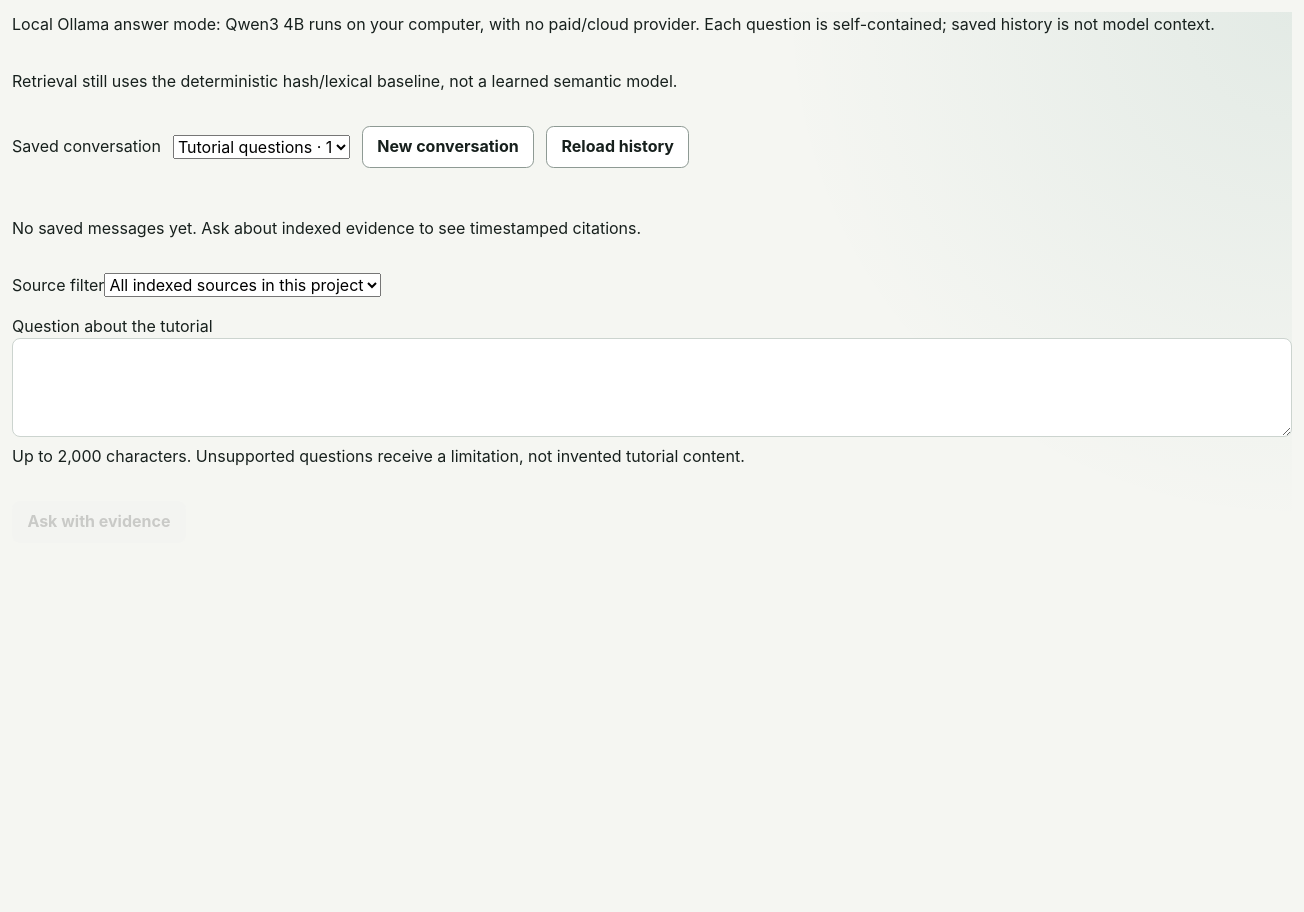
Scenario: project chat › offers actionable local-model recovery while retaining the same retry key
In the text box labelled "Question about the tutorial": (652, 388) [12,338,1292,437], type "What is health?"
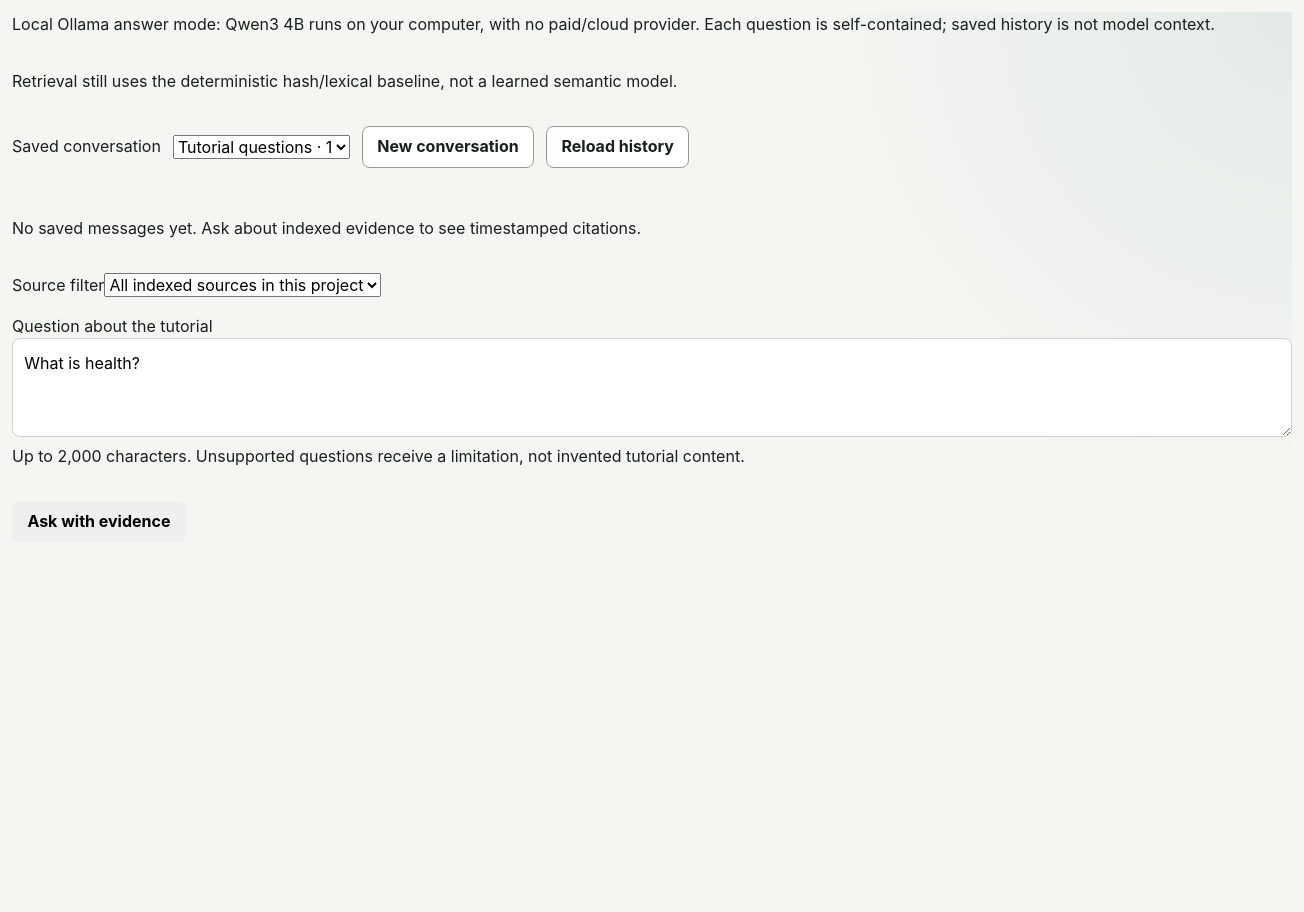
Click the button "Ask with evidence": (99, 522) [12,501,186,543]
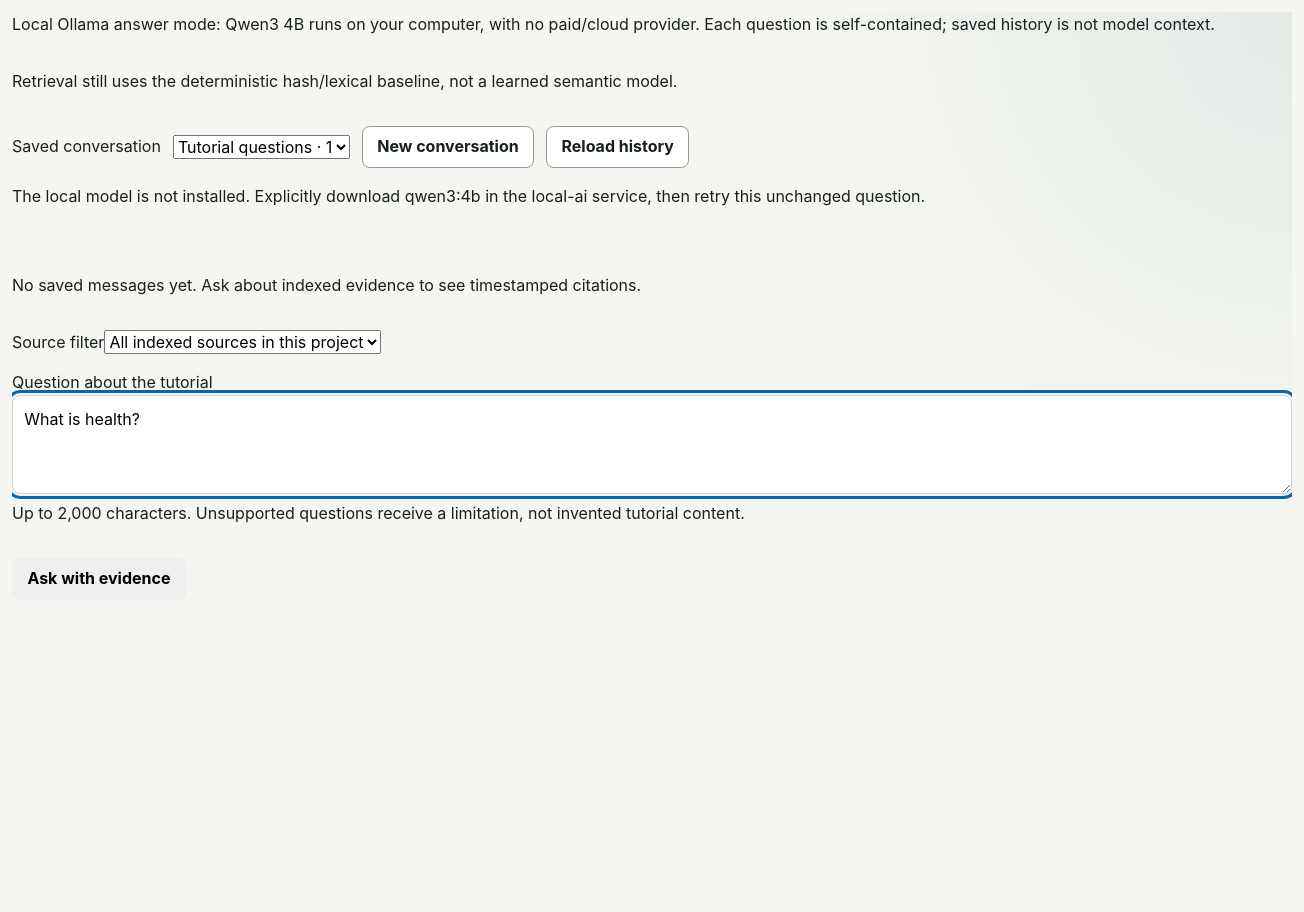
Result: the message shows "Explicitly download qwen3:4b" at [12,186,925,206]
Click the button "Ask with evidence": (99, 579) [12,558,186,600]
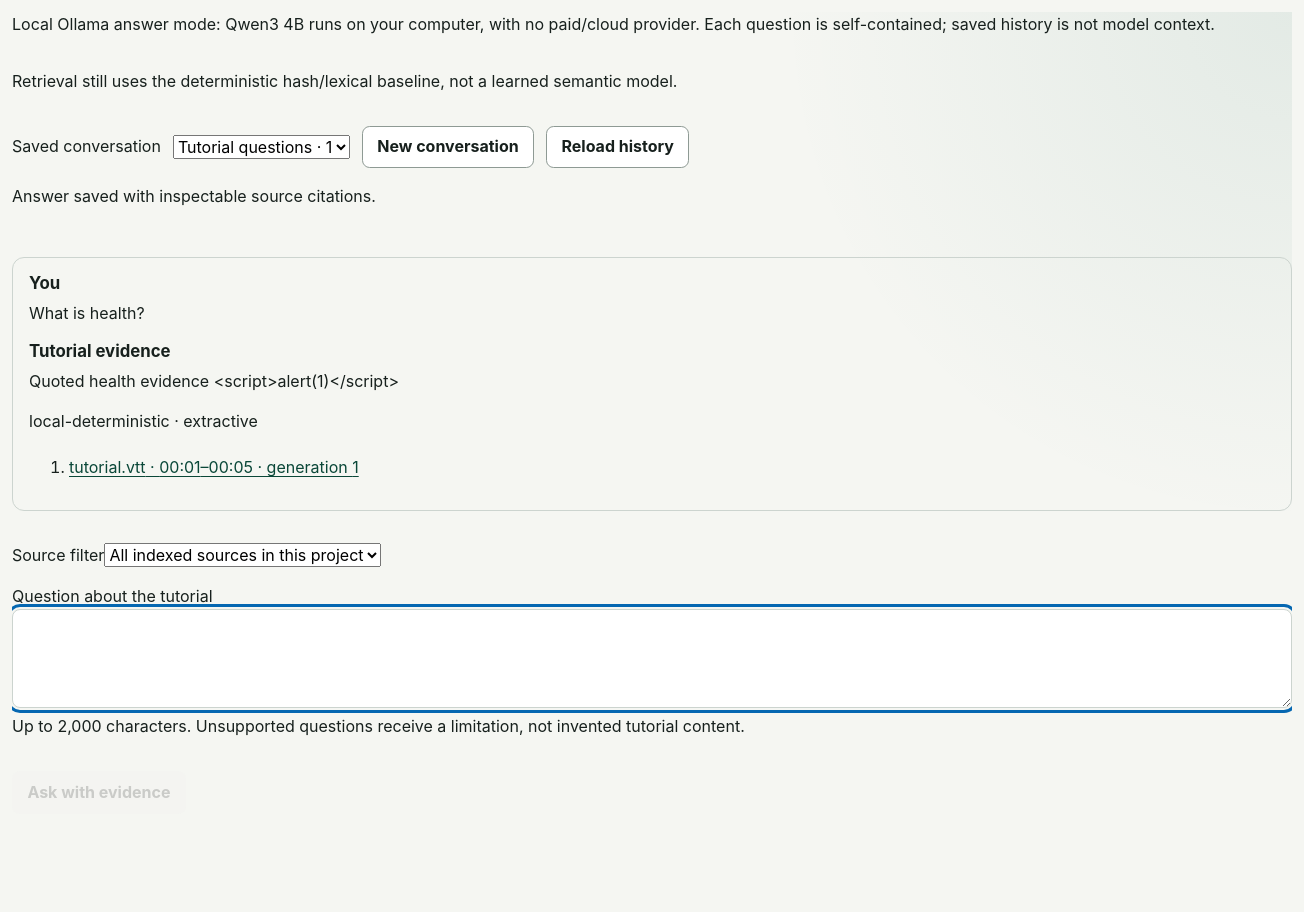
Result: the text "Quoted health evidence <script>alert(1)</script>" is shown at [29,371,399,391]
